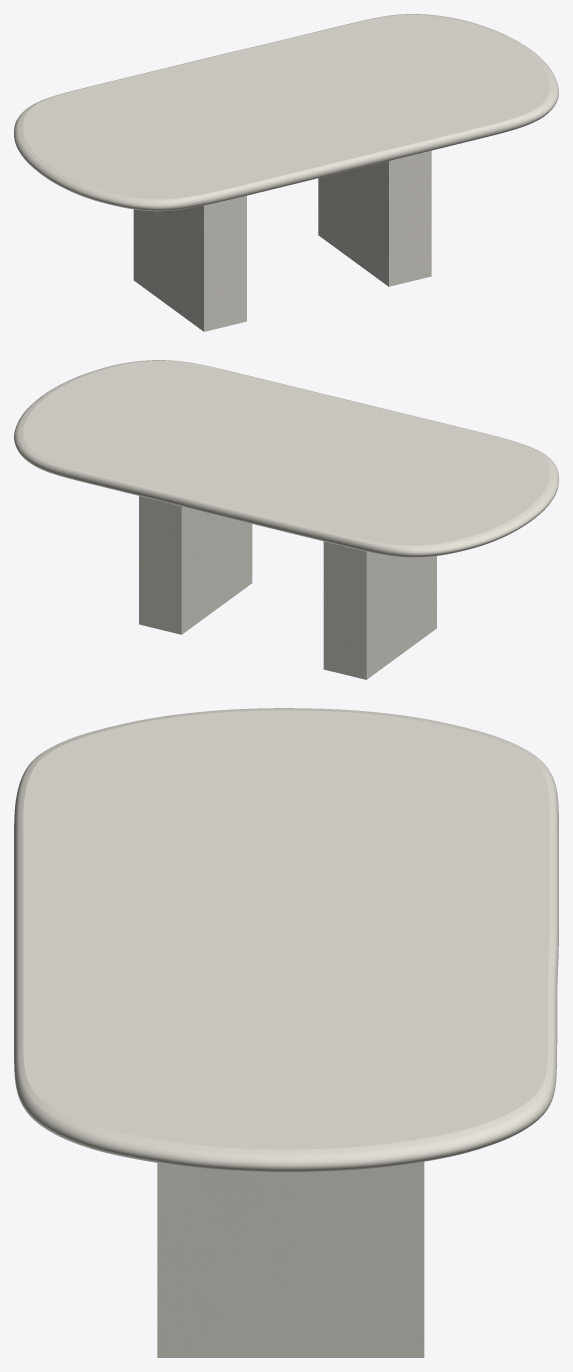
The model's file is pale_oval_round_ridge.glb.
The picture shows the model from 3 angles, top to bottom: view 1: azimuth 30°, elevation 25°; view 2: azimuth 150°, elevation 25°; view 3: azimuth 270°, elevation 25°; orthographic projection. The views are drawn at different scales.
Parts seen in each view (by area): view 1: round_oval, ridge; view 2: round_oval, ridge; view 3: round_oval, ridge.
Part boxes in pixels (x1,y1,x2,y2): round_oval: [14, 14, 558, 211]; ridge: [133, 150, 431, 331]; round_oval: [14, 360, 558, 557]; ridge: [139, 496, 436, 679]; round_oval: [14, 708, 558, 1172]; ridge: [157, 1162, 424, 1357].
Bounding box in the file's own units: 7.5 × 2.5 × 3.8.
Materials: 1 (1 with a texture image).
